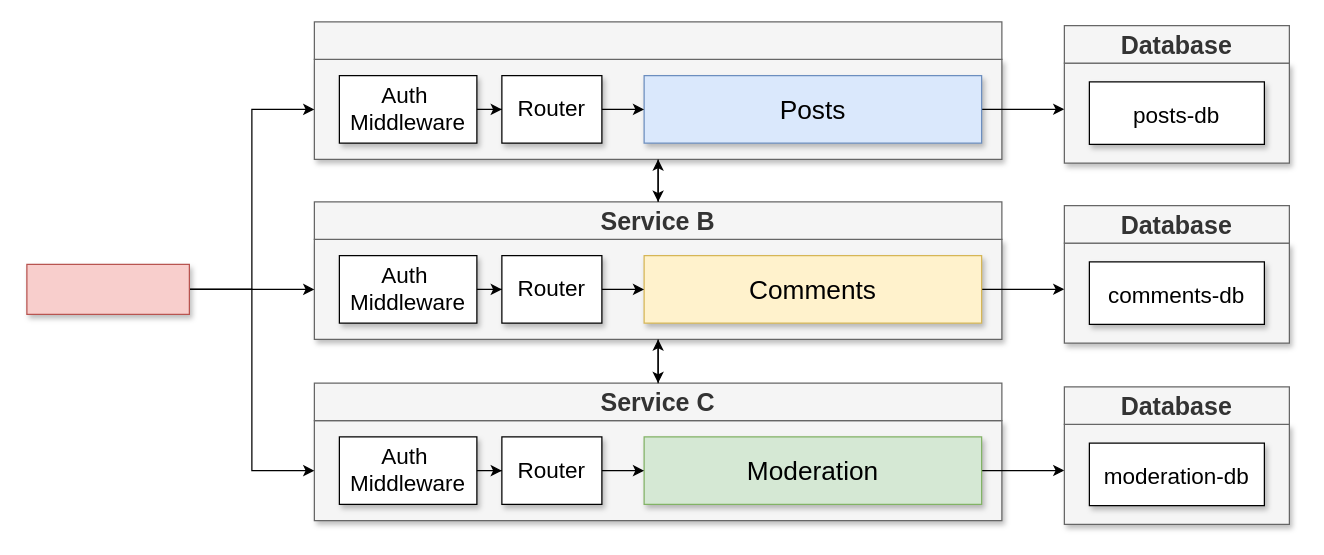
Image size: 1324x555. Some labels were removed from this diagram. Each missing label, with the centre of its shape:
Request: point (109, 290)
Service A: point (657, 40)
